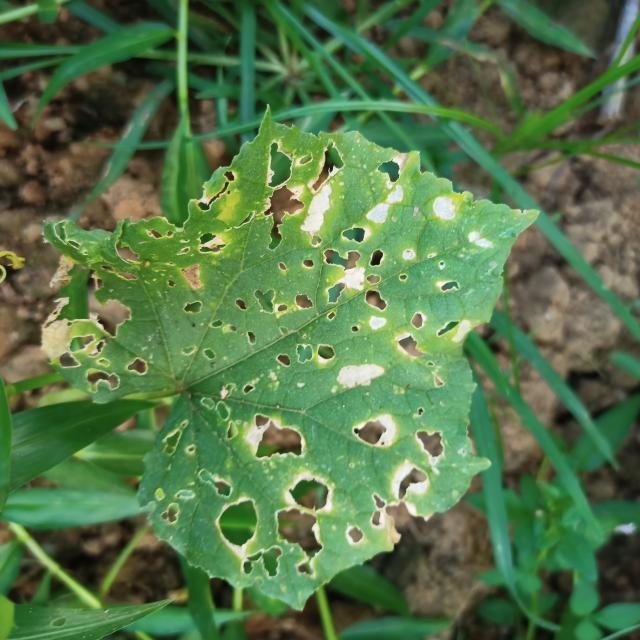disease_cucumber: (66, 144, 506, 578)
